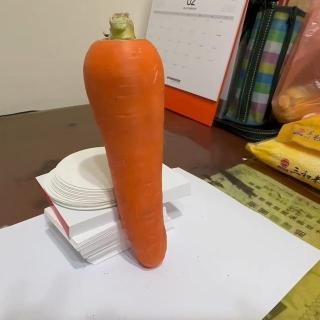carrot: (83, 12, 167, 270)
